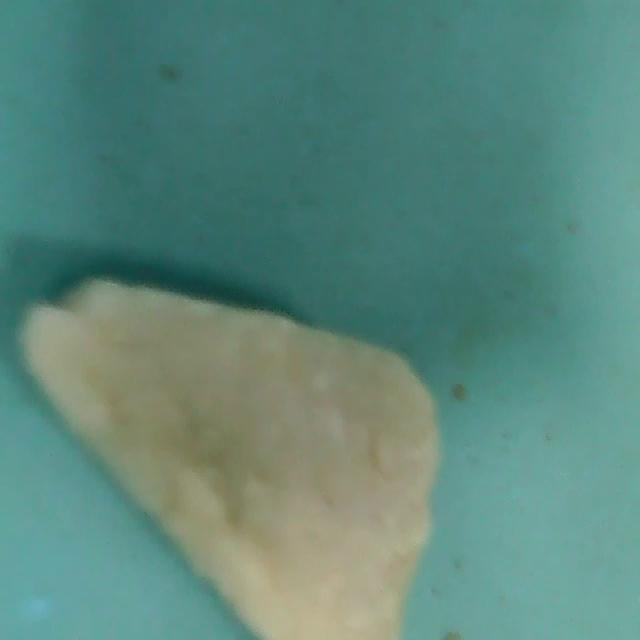rock: (9, 270, 450, 640)
